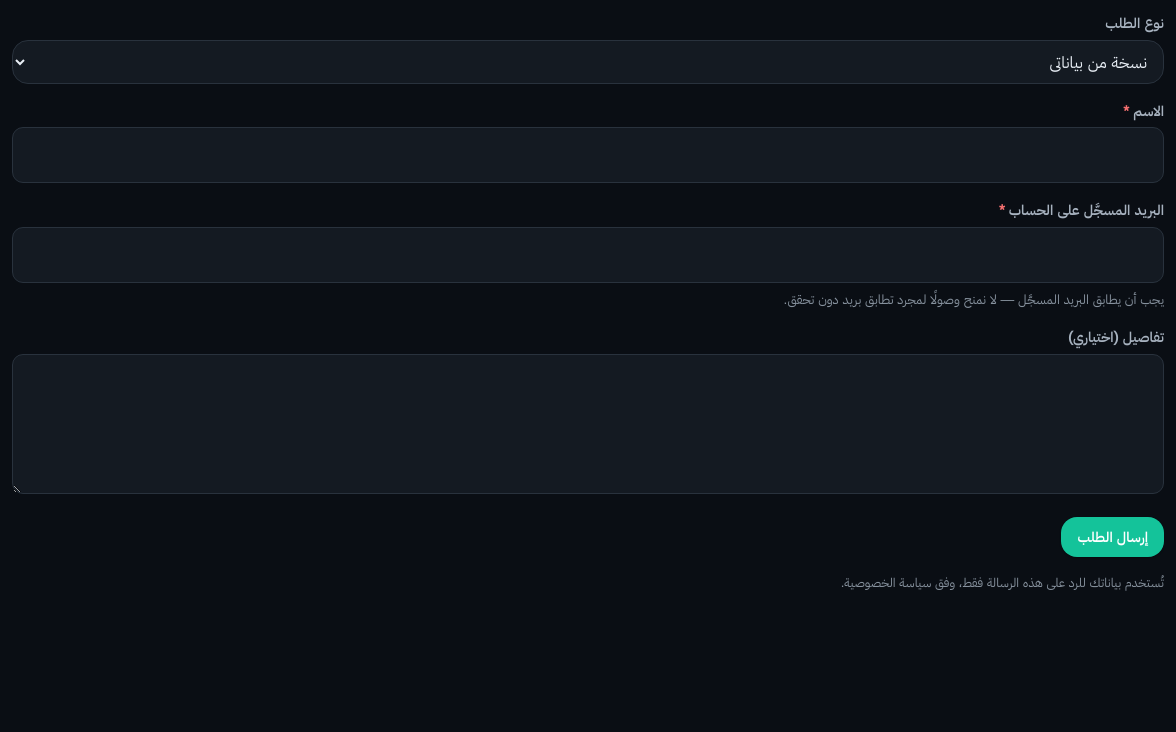
Test: the data-request form › shows what is standing in the way of a deletion, in the readers language
Select "حذف الحساب بالكامل" in the dropdown labelled "نوع الطلب" at (588, 62), box x1=12 y1=40 x2=1164 y2=84
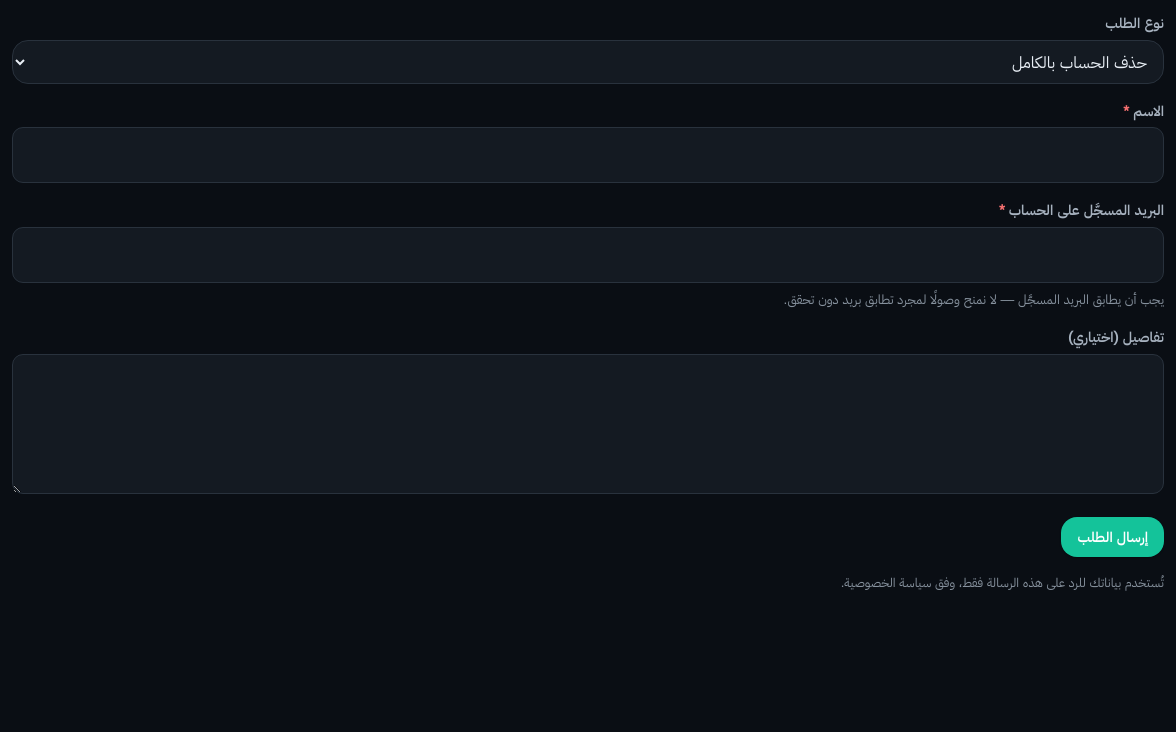
Type "نورة" into the field labelled "الاسم *" at (588, 155), box x1=12 y1=127 x2=1164 y2=183
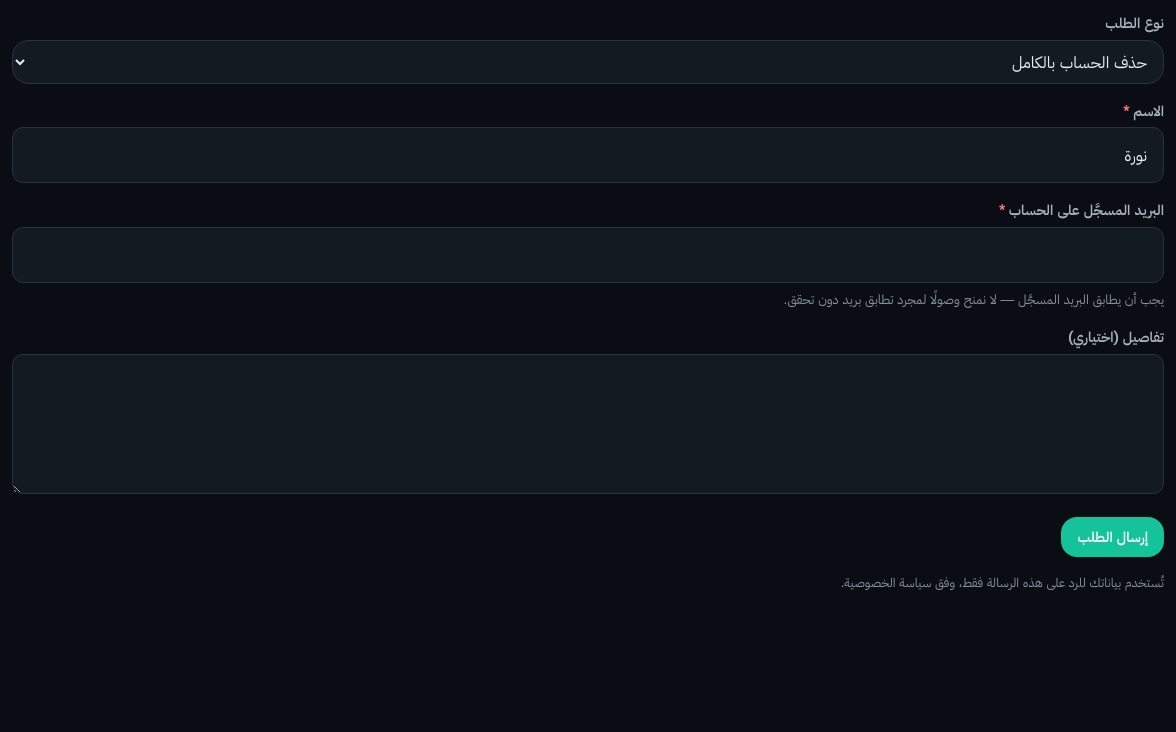
Type "n@example.test" into the field labelled "البريد المسجَّل على الحساب *" at (588, 255), box x1=12 y1=227 x2=1164 y2=283
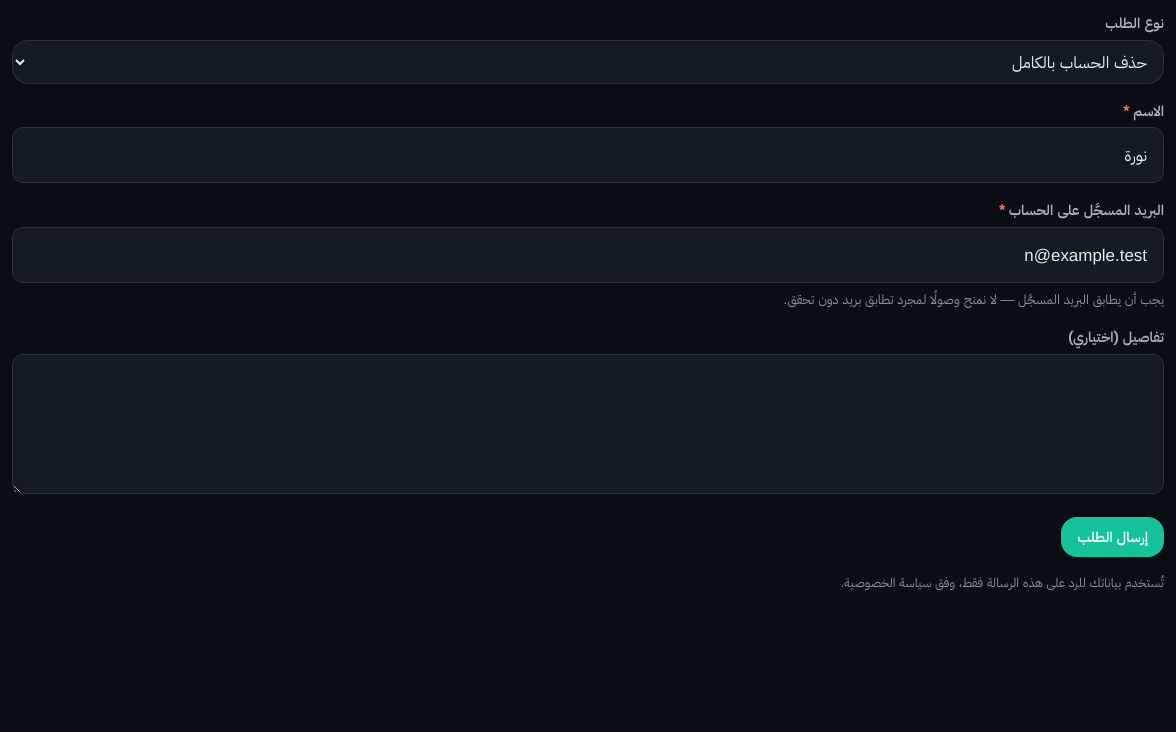
Click the button with test id "data-request-form-submit" at (1113, 537), box x1=1062 y1=517 x2=1164 y2=557
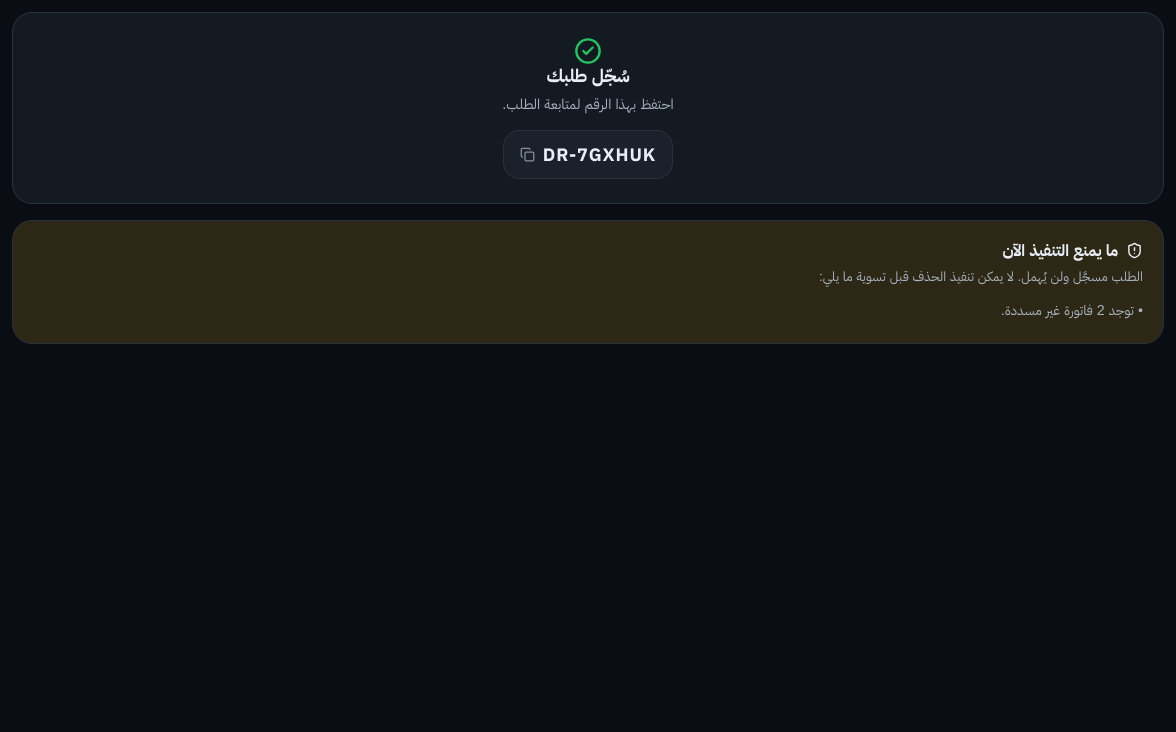
expect the element with test id "data-request-blockers" shows "فاتورة غير مسددة": met, box x1=1001 y1=302 x2=1134 y2=318
expect the element with test id "data-request-blockers" shows "لن يُهمل": met, box x1=819 y1=268 x2=1143 y2=284
expect the text with test id "reference-code" reads "DR-7GXHUK": met, box x1=543 y1=141 x2=656 y2=168
